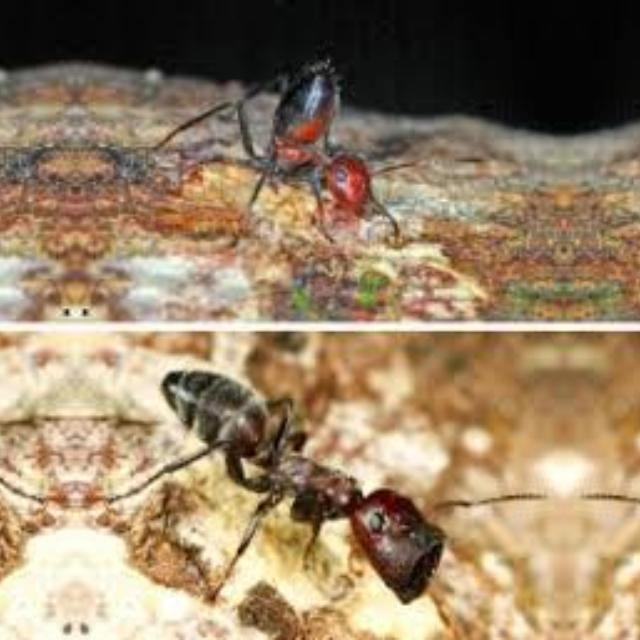Colobopsis: (148, 352, 496, 624), (226, 23, 404, 240)
